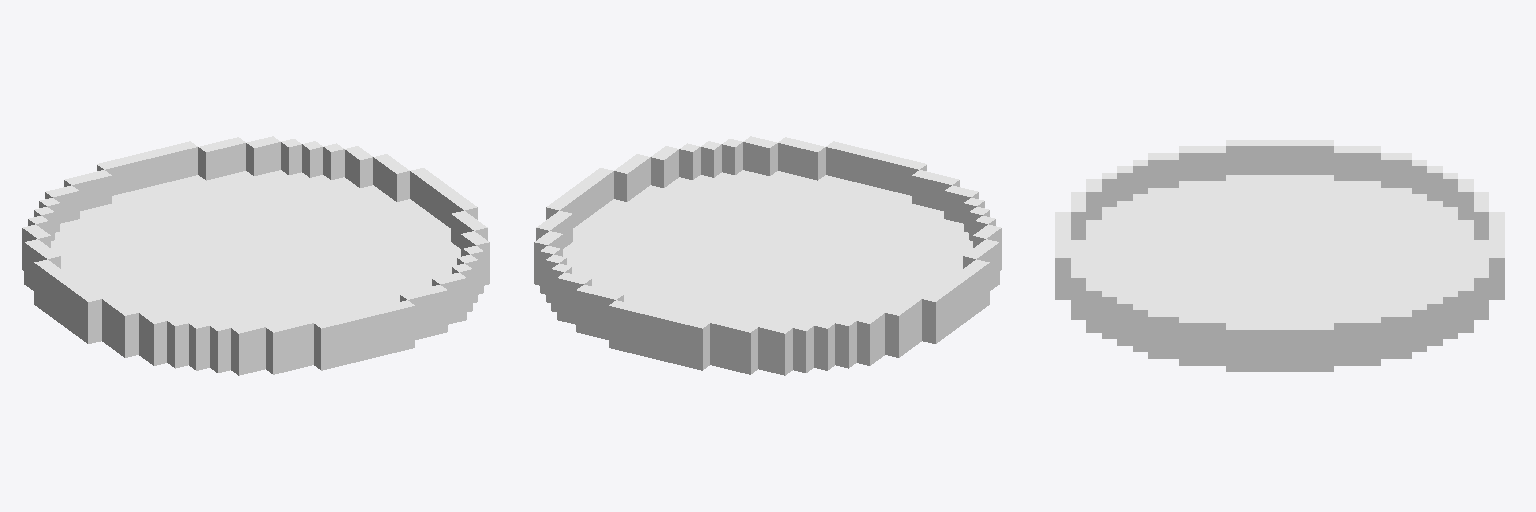
Rendered from tacka.obj.
3 views of the same model, side by side, from view 1: azimuth 30°, elevation 25°; view 2: azimuth 150°, elevation 25°; view 3: azimuth 270°, elevation 25° (orthographic).
Parts seen in each view (by area): view 1: object 1; view 2: object 1; view 3: object 1.
Boxes of the visible parts, x1,y1,x2,y2 form: object 1: [22, 136, 489, 375]; object 1: [534, 136, 1001, 375]; object 1: [1055, 140, 1504, 371].
Bounding box in the file's own units: 2.9 × 0.3 × 2.9.